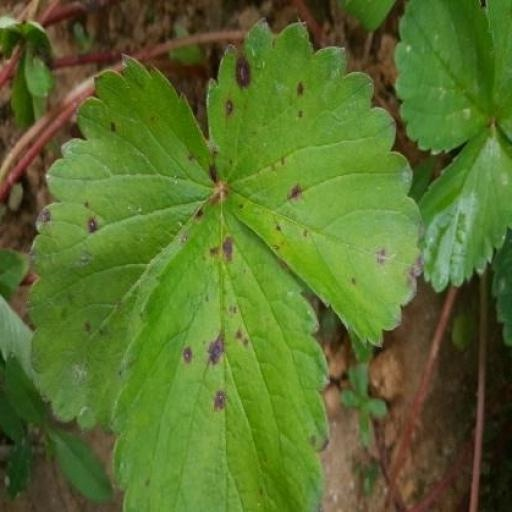Leaf Spot: (292, 52, 488, 436), (86, 16, 307, 348), (181, 189, 401, 511)
